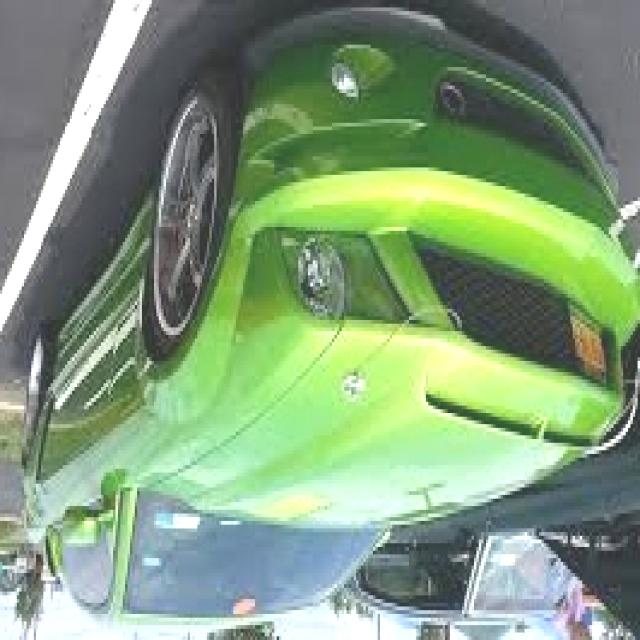green: (0, 33, 635, 632)
